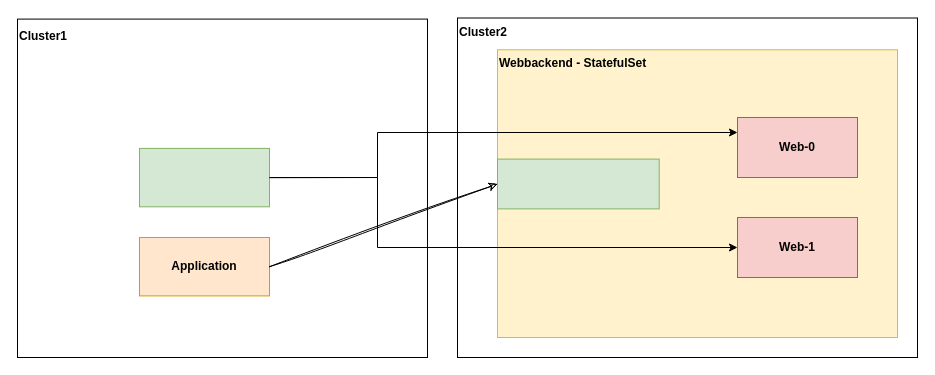
Some shapes in this 935 by 375 pixel diagram are drawn without their labels. The shapes that lost their labels are listed below. From the top down, each one's centre as x and y in pixels, then its label:
the point at 204,177: WebFront
the point at 577,183: WebBackend (svc)
